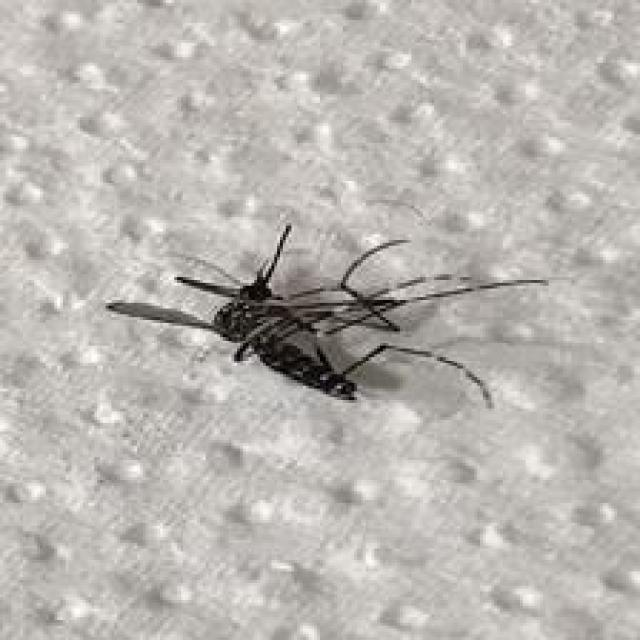Aedes albopictus: (104, 221, 550, 410)
